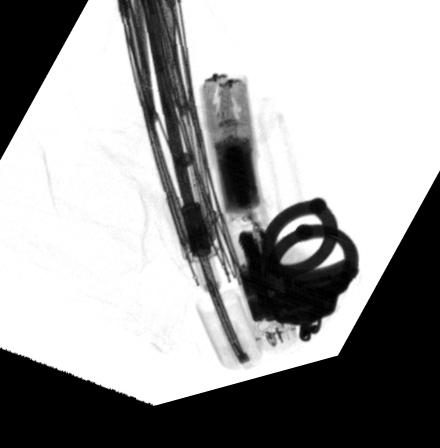Baton: (197, 83, 299, 371)
HandCuffs: (236, 212, 360, 361)
